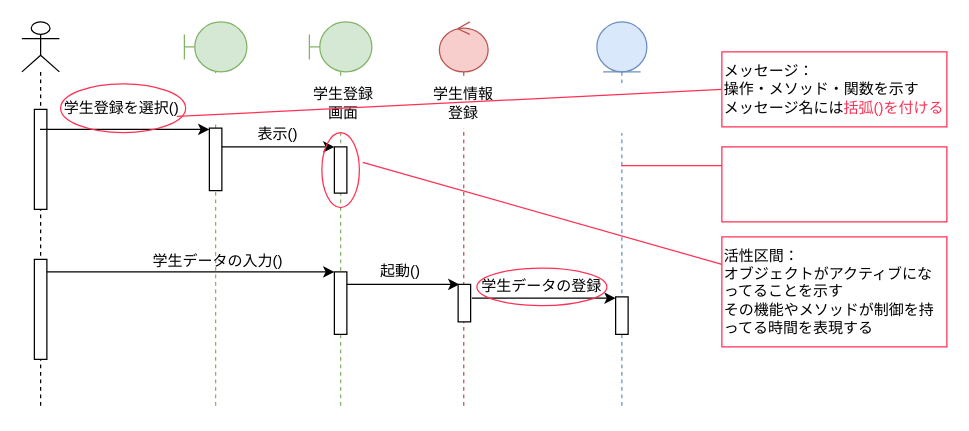
Image size: 969x431. Some labels were removed from this diagram. The centre of each missing label's shape, as x and y in pixels:
"メニュー画面" goes at pixel 219 97.
"学生オブジェクト" goes at pixel 623 107.
"生存線(ライフライン)： オブジェクトやクラスを示す" goes at pixel 834 184.
